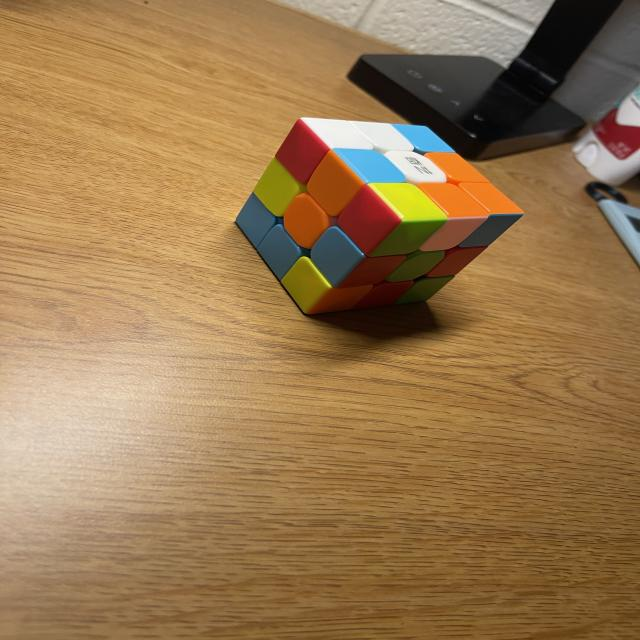Rubiks Cube: (235, 117, 524, 316)
